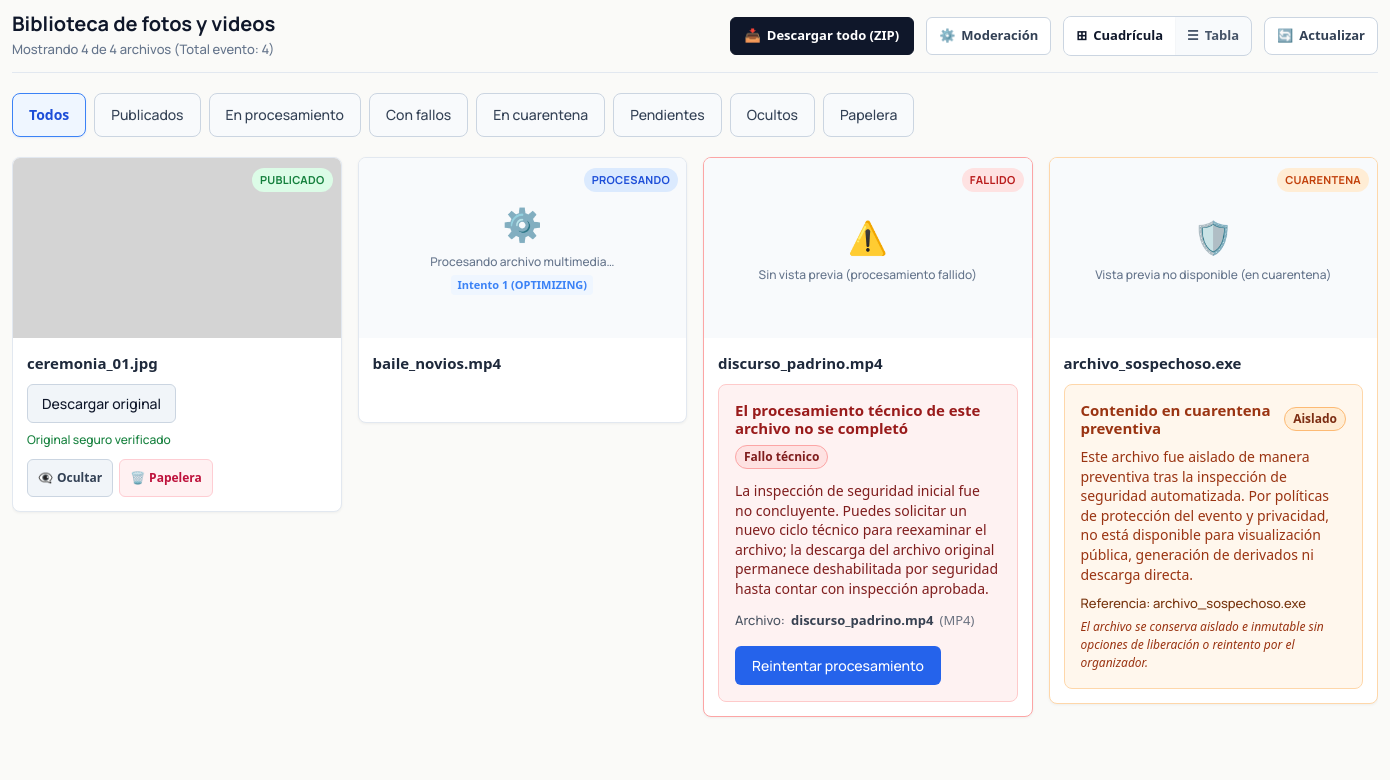
Scenario: OrganizerMediaLibraryComponent & Media Integration (EL-TK-100) › Recuperación individual y exportación (EL-TK-132) › solicita URL firmada para descarga de original individual y delega la transferencia al navegador sin afirmar persistencia en dispositivo
What coordinates should you click on to do the following:
click the button with class "btn-download-original"
I would click on:
 (102, 404)
Its box is [27,384,176,423].
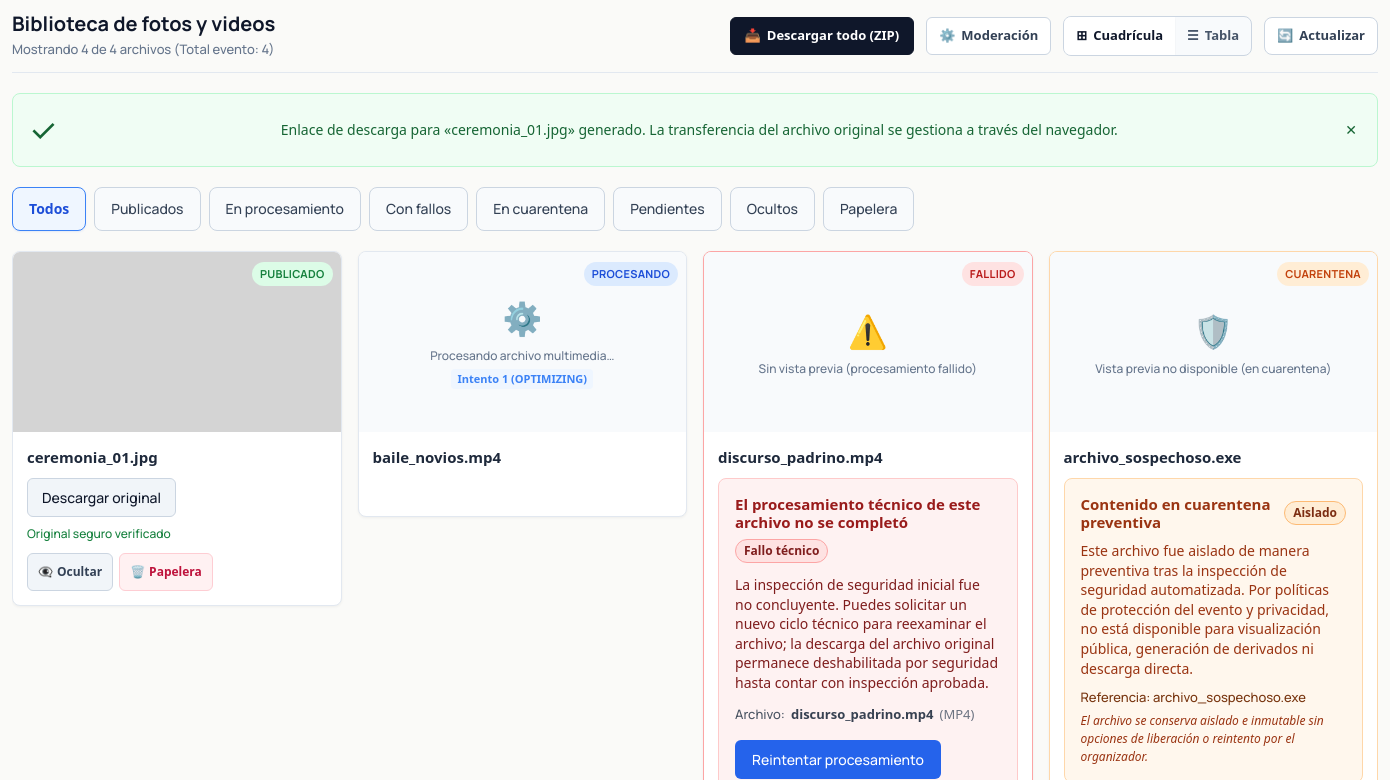
expect the message with class "alert-success" is shown: met, box [12,92,1378,166]
expect the message with class "alert-success" shows "Enlace de descarga para «ceremonia_01.jpg» generado.": met, box [281,120,1118,139]
expect the message with class "alert-success" shows "La transferencia del archivo original se gestiona a través del navegador.": met, box [281,120,1118,139]
